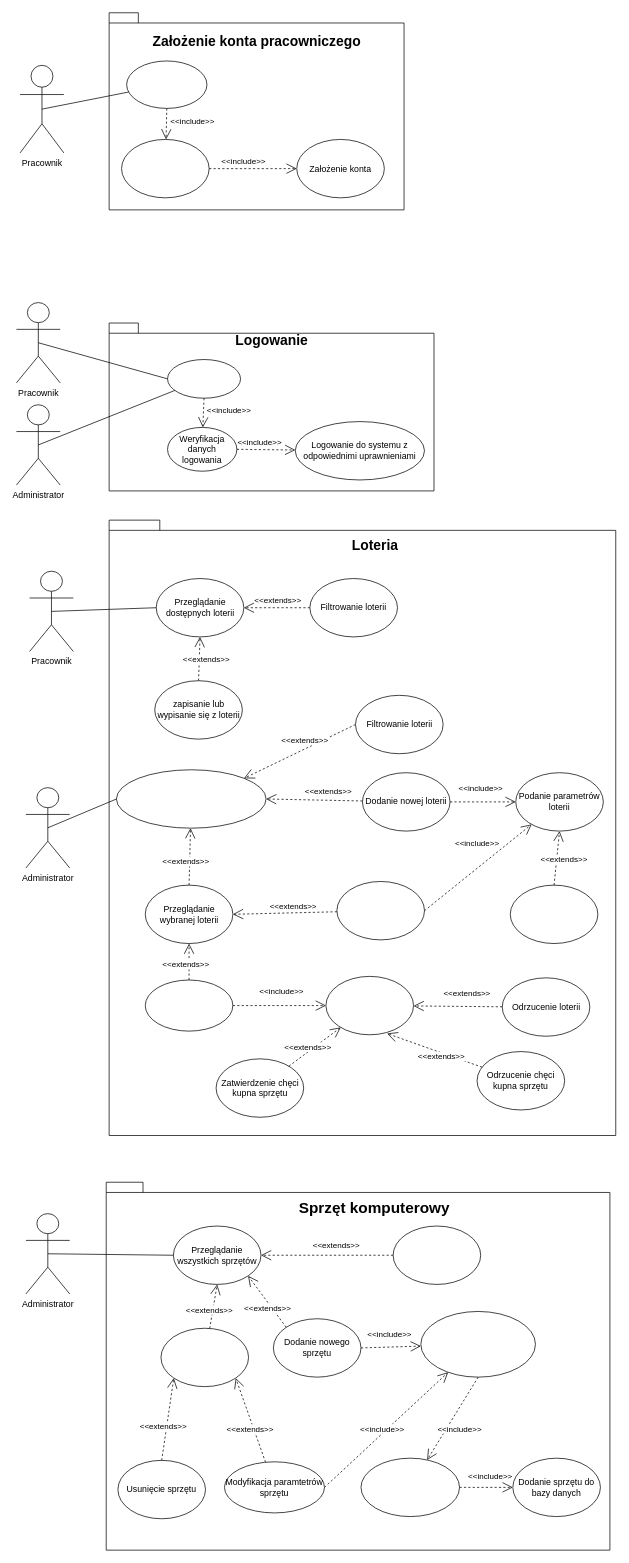
Image size: 629x1563. Some labels were removed from this diagram. Here are the shapes that lost their labels. From the top down, the centre of each, then its label:
At (x=166, y=84): "Podanie loginu, hasła i emaila firmowego".
At (x=165, y=168): "weryfikacja maila firmowego".
At (x=204, y=378): "Podanie danych logowania".
At (x=191, y=798): "Przeglądanie wszystkich loterii".
At (x=380, y=910): "Modyfikacja parametrów loterii".
At (x=554, y=914): "Dodawanie dostępnych sprzętów do loterii".
At (x=189, y=1005): "Uruchomienie losowania".
At (x=369, y=1005): "Losowanie zwycięzcy loterii".
At (x=436, y=1254): "Filtrowanie sprzętów".
At (x=204, y=1357): "Przeglądanie wybranego sprzętu".
At (x=477, y=1344): "Podanie parametrów sprzętu".
At (x=410, y=1487): "Pomoc systemu w uzupełnianiu parametrów sprzętu".
